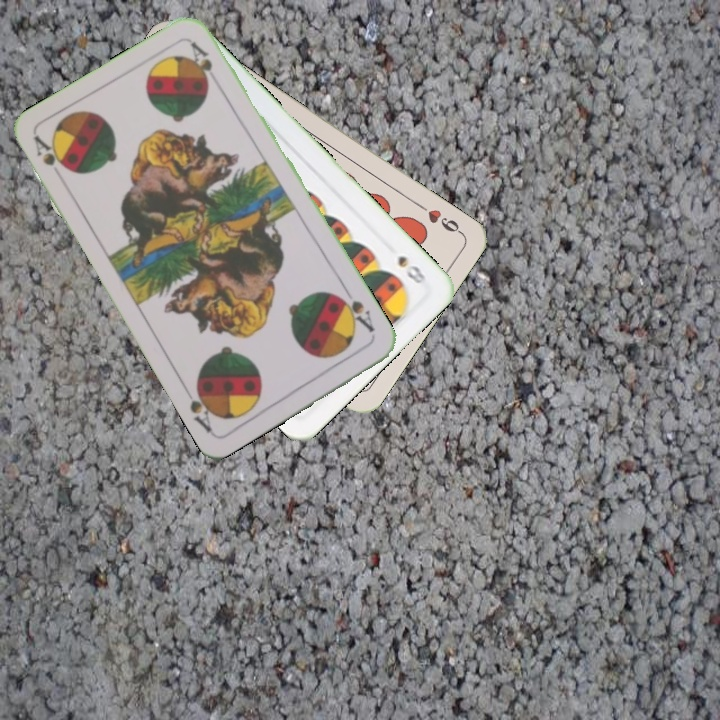H9: (412, 199, 465, 237)
S8: (393, 251, 431, 286)
SA: (29, 132, 73, 186), (333, 285, 377, 336)
